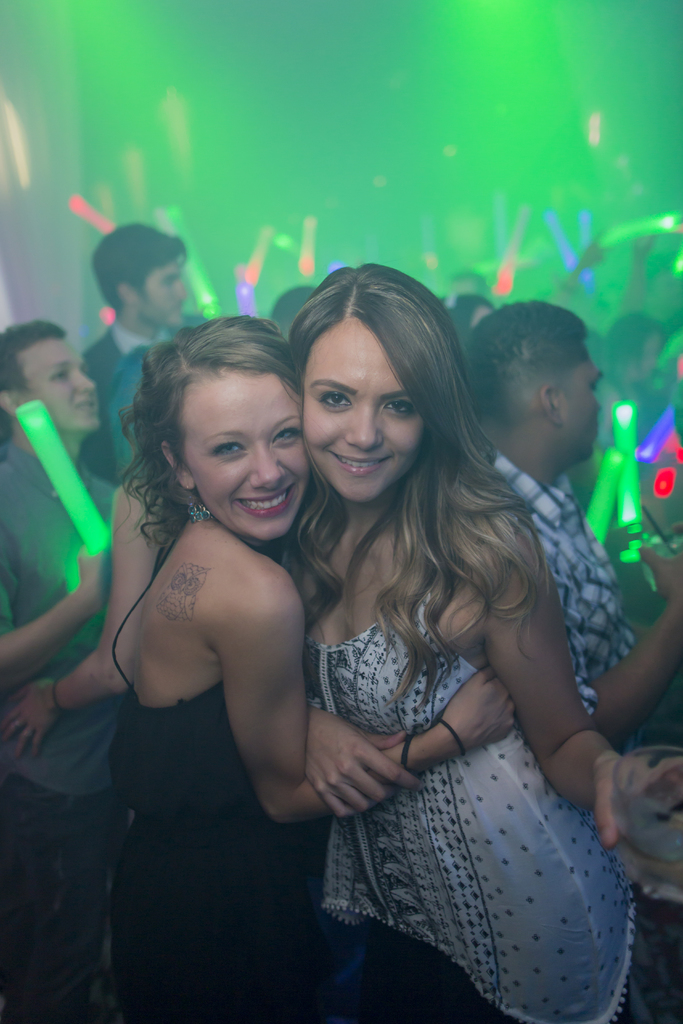Person: (0, 224, 682, 1023)
